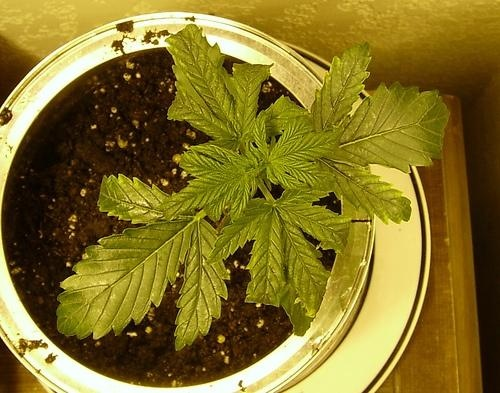pottedplant: (5, 9, 442, 388)
